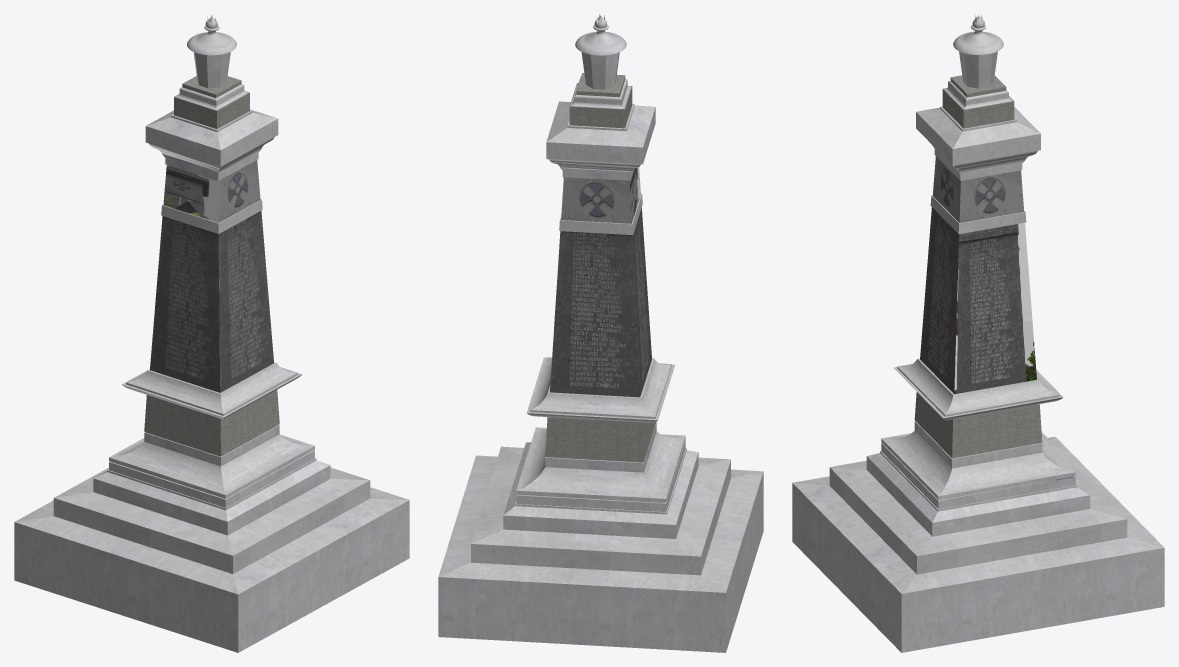
Rendered from Monument.fbx.
The picture shows the model from 3 angles, left to right: view 1: azimuth 30°, elevation 25°; view 2: azimuth 150°, elevation 25°; view 3: azimuth 270°, elevation 25°; orthographic projection. The views are drawn at different scales.
Parts seen in each view (by area): view 1: Model; view 2: Model; view 3: Model.
Part boxes in pixels (x1,y1,x2,y2): Model: [14, 25, 409, 652]; Model: [438, 24, 763, 652]; Model: [792, 24, 1164, 652].
Size of the model in its own units: 3.66 by 6.06 by 3.66.
